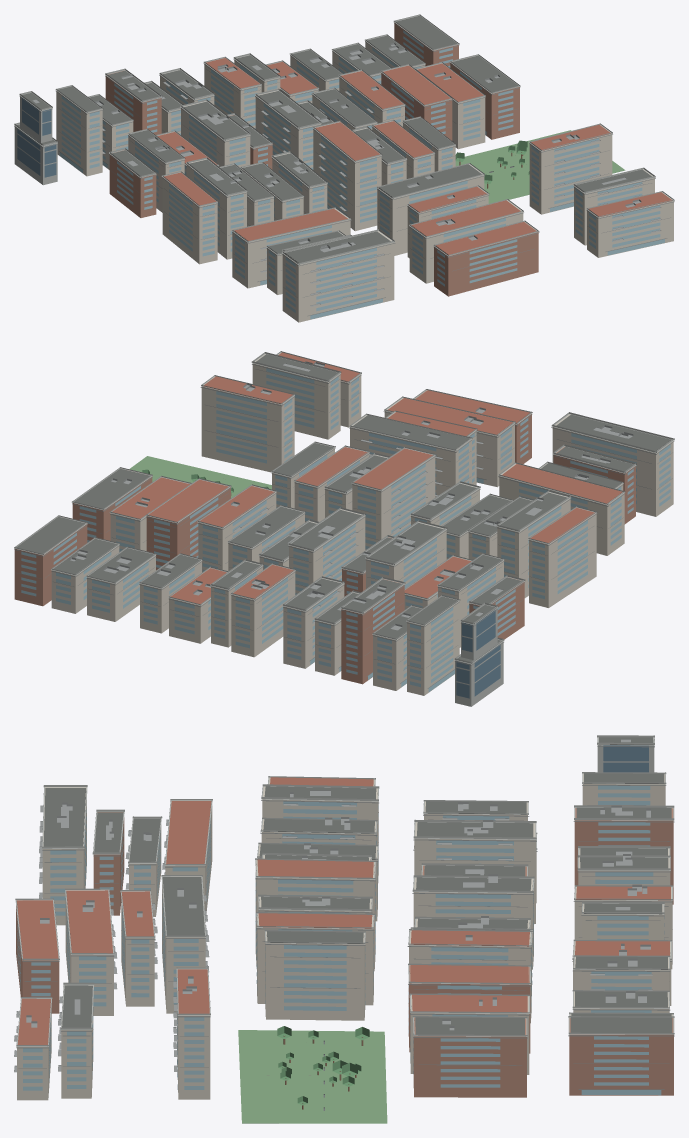
The model's file is tile-p002-m002.glb.
3 renders of one model, top to bottom at view 1: azimuth 30°, elevation 25°; view 2: azimuth 150°, elevation 25°; view 3: azimuth 270°, elevation 25°, orthographic. The views are drawn at different scales.
Parts seen in each view (by area): view 1: building-1055-mesh-17, building-1135-mesh-162, building-1209-mesh-261, building-1137-mesh-168, building-1055-mesh-18, neighborhood-park-block-306-mesh-0, building-1207-mesh-247, building-1059-mesh-43, building-1069-mesh-110, building-1058-mesh-37, building-1132-mesh-141, building-1209-mesh-262 (+80 smaller); view 2: building-1209-mesh-261, building-1059-mesh-43, building-1055-mesh-17, building-1208-mesh-254, building-1137-mesh-168, building-1071-mesh-122, building-1069-mesh-110, building-1145-mesh-220, building-1209-mesh-262, building-1216-mesh-300, building-1132-mesh-141, building-1058-mesh-37 (+88 smaller); view 3: neighborhood-park-block-306-mesh-0, building-1212-mesh-280, building-1140-mesh-187, building-1216-mesh-300, building-1140-mesh-188, building-1067-mesh-97, building-1071-mesh-122, building-1134-mesh-159, building-1058-mesh-41, building-1141-mesh-192, building-1209-mesh-261, building-1132-mesh-145 (+87 smaller).
Boxes of the visible parts, x1,y1,x2,y2 form: building-1055-mesh-17: (282,231,394,322); building-1135-mesh-162: (434,222,538,296); building-1209-mesh-261: (529,125,612,214); building-1137-mesh-168: (313,128,381,231); building-1055-mesh-18: (285,248,382,319); neighborhood-park-block-306-mesh-0: (455,130,625,203); building-1207-mesh-247: (587,192,673,257); building-1059-mesh-43: (162,177,217,264); building-1069-mesh-110: (56,90,102,176); building-1058-mesh-37: (232,209,350,288); building-1132-mesh-141: (377,164,484,255); building-1209-mesh-262: (531,138,599,211); building-1209-mesh-261: (201,377,294,472); building-1059-mesh-43: (529,513,596,607); building-1055-mesh-17: (552,414,673,516); building-1208-mesh-254: (252,354,340,439); building-1137-mesh-168: (352,453,435,549); building-1071-mesh-122: (341,579,404,684); building-1069-mesh-110: (407,601,459,695); building-1145-mesh-220: (231,571,295,657); building-1209-mesh-262: (216,391,292,463); building-1216-mesh-300: (14,524,87,606); building-1132-mesh-141: (350,415,471,497); building-1058-mesh-37: (499,464,624,555); neighborhood-park-block-306-mesh-0: (238,1030,387,1123); building-1212-mesh-280: (413,1017,526,1097); building-1140-mesh-187: (265,931,365,1020); building-1216-mesh-300: (569,1018,673,1095); building-1140-mesh-188: (265,945,365,1010); building-1067-mesh-97: (414,822,535,923); building-1071-mesh-122: (574,808,673,904); building-1134-mesh-159: (66,890,112,953); building-1058-mesh-41: (166,801,211,864); building-1141-mesh-192: (413,877,533,969); building-1209-mesh-261: (177,992,210,1099); building-1132-mesh-145: (162,877,204,935).
Size of the model in its own units: 275 by 42.13 by 262.
